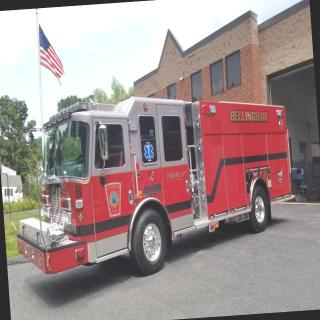Fire_truck: (6, 84, 300, 285)
